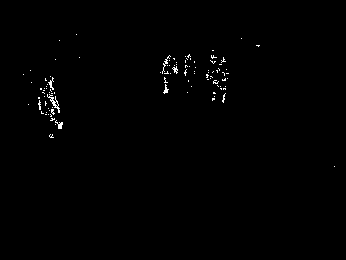person: (38, 74, 65, 135), (206, 48, 230, 103), (161, 50, 178, 98), (184, 53, 196, 97)
